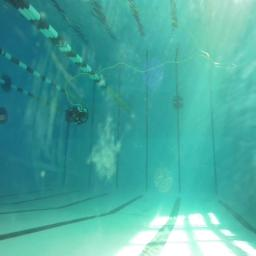Full: (172, 102, 184, 111)
Side: (63, 106, 90, 124)
